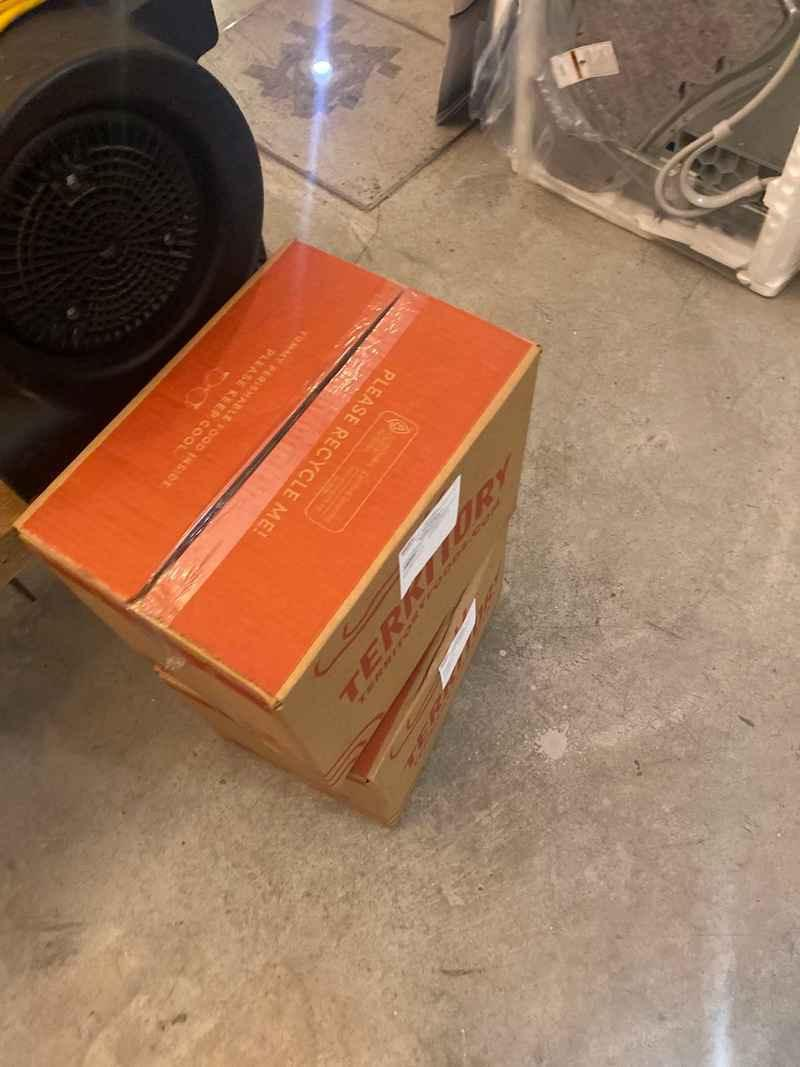package: (40, 234, 565, 745), (176, 525, 565, 825)
